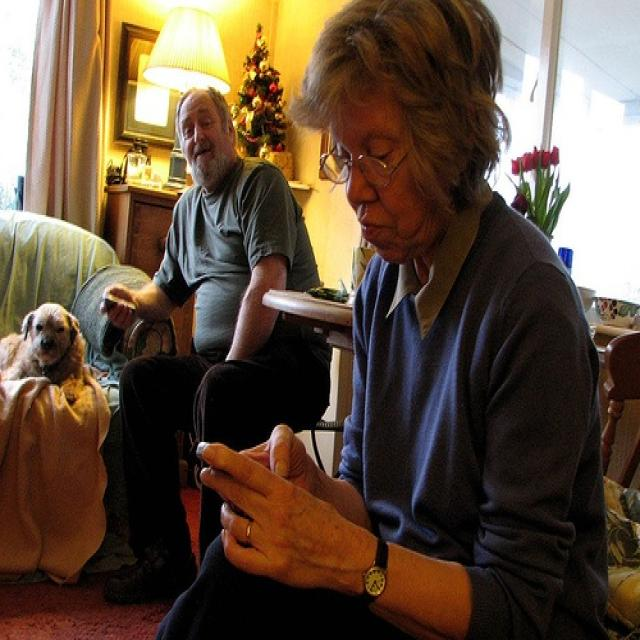chair: (600, 326, 639, 485)
dog: (2, 300, 88, 391)
sofa: (0, 208, 177, 584)
